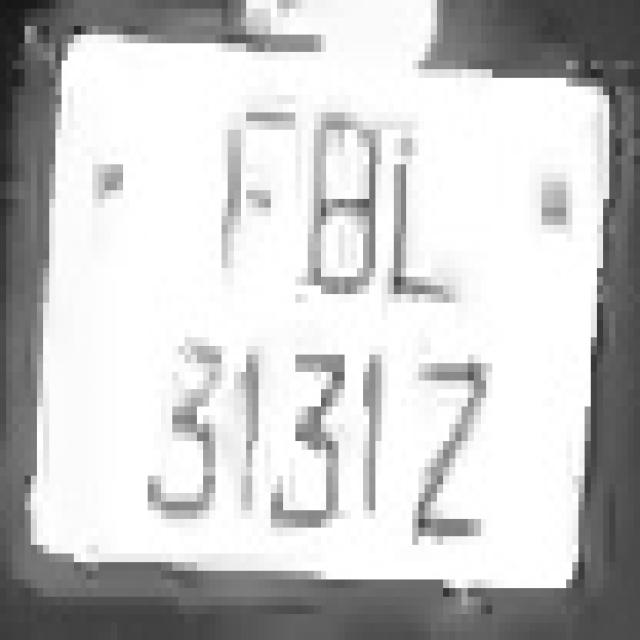1: (222, 320, 264, 536), (350, 320, 388, 554)
3: (129, 312, 222, 528), (265, 320, 357, 536)
B: (289, 95, 382, 346)
F: (197, 86, 289, 320)
L: (376, 95, 462, 320)
Z: (400, 328, 492, 570)
